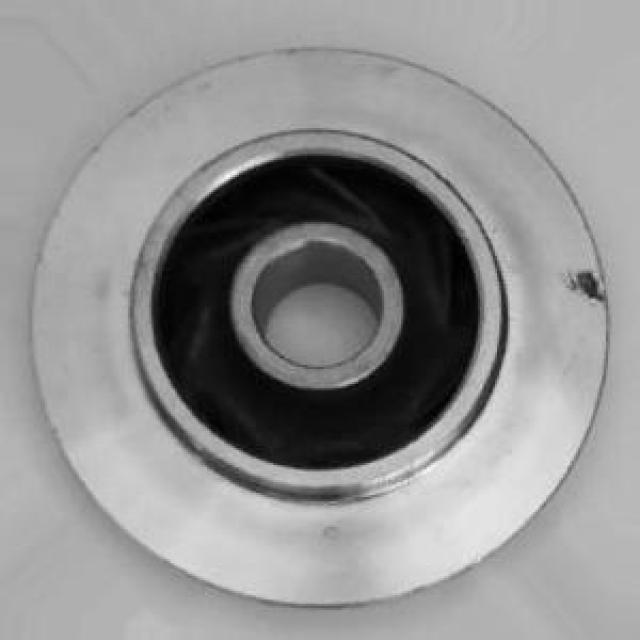Defect: (569, 269, 605, 302)
